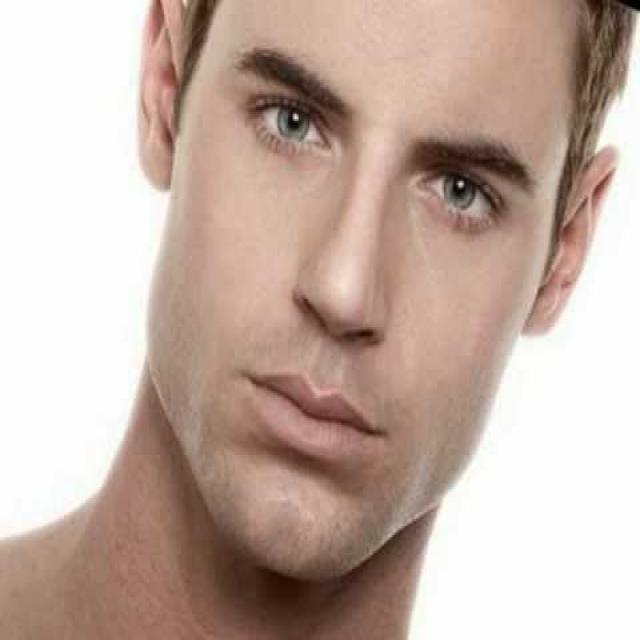earlobe: (523, 283, 560, 341), (143, 138, 174, 194)
eye: (424, 172, 499, 220), (256, 101, 328, 151)
nose: (289, 294, 381, 392)
wholeear: (523, 144, 620, 340), (136, 0, 188, 193)
